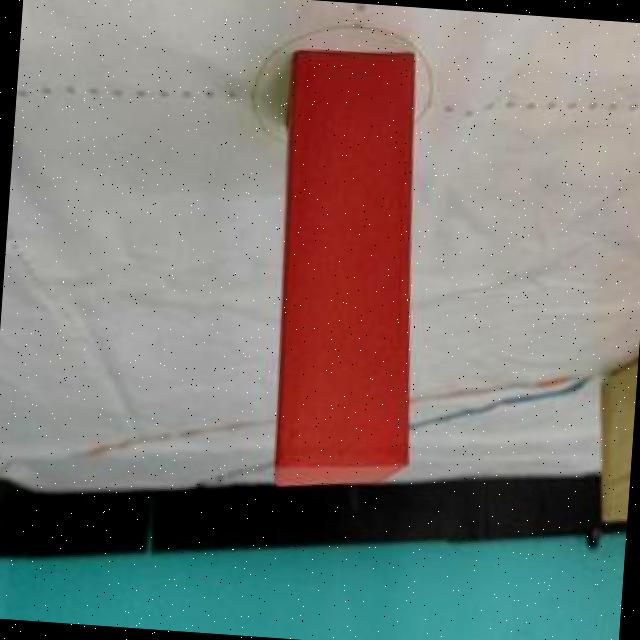redbox: (266, 48, 432, 486)
